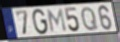5: (64, 7, 81, 33)
6: (98, 4, 113, 32)
7: (15, 10, 29, 37)
G: (32, 8, 50, 36)
M: (46, 8, 68, 34)
Q: (80, 6, 99, 32)
